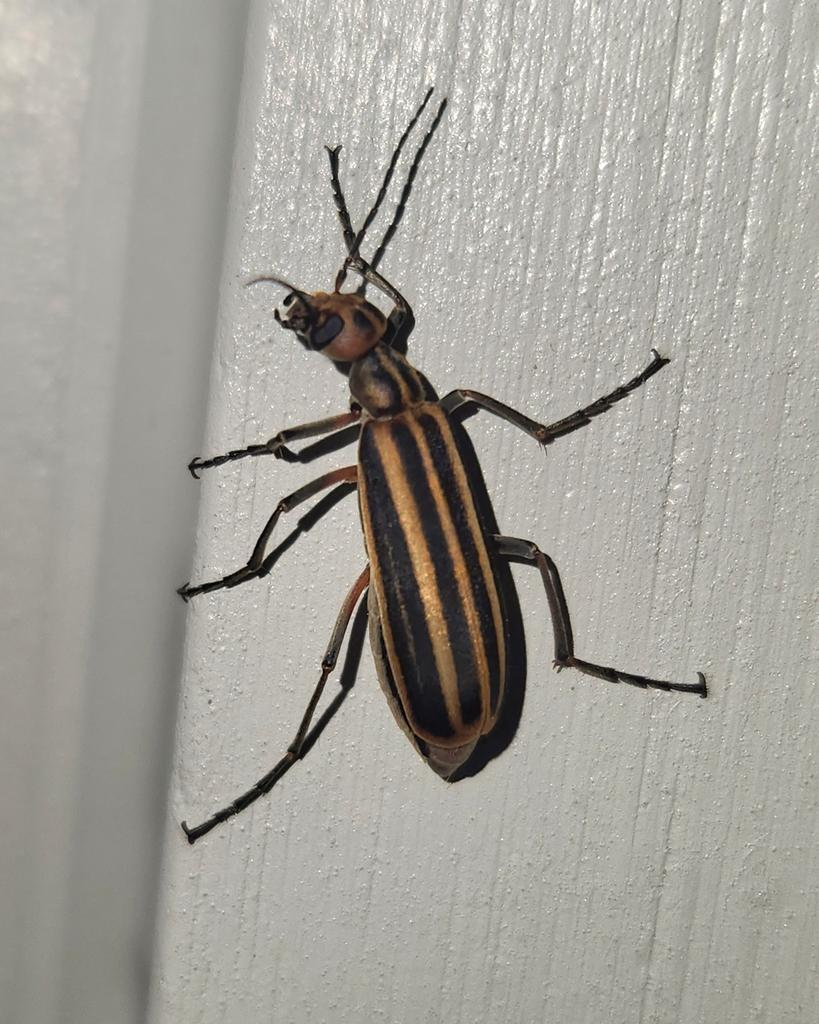blister_beetle: (82, 29, 787, 903)
